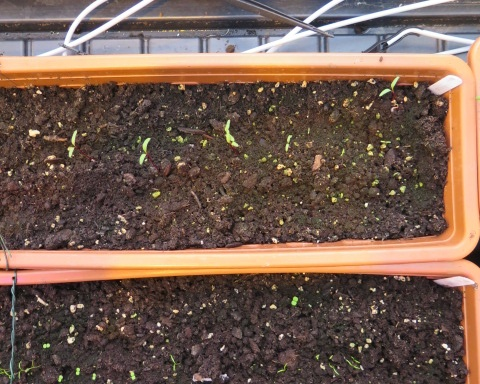crop: (222, 121, 241, 156), (376, 75, 400, 97), (137, 136, 154, 166), (65, 128, 79, 159), (16, 361, 44, 374), (282, 133, 294, 154), (169, 354, 181, 371), (344, 358, 362, 369), (329, 363, 344, 376), (275, 362, 288, 374)
weed: (288, 294, 300, 307), (72, 364, 82, 377), (128, 369, 137, 382), (41, 342, 51, 349), (91, 372, 97, 381), (57, 375, 63, 381)
